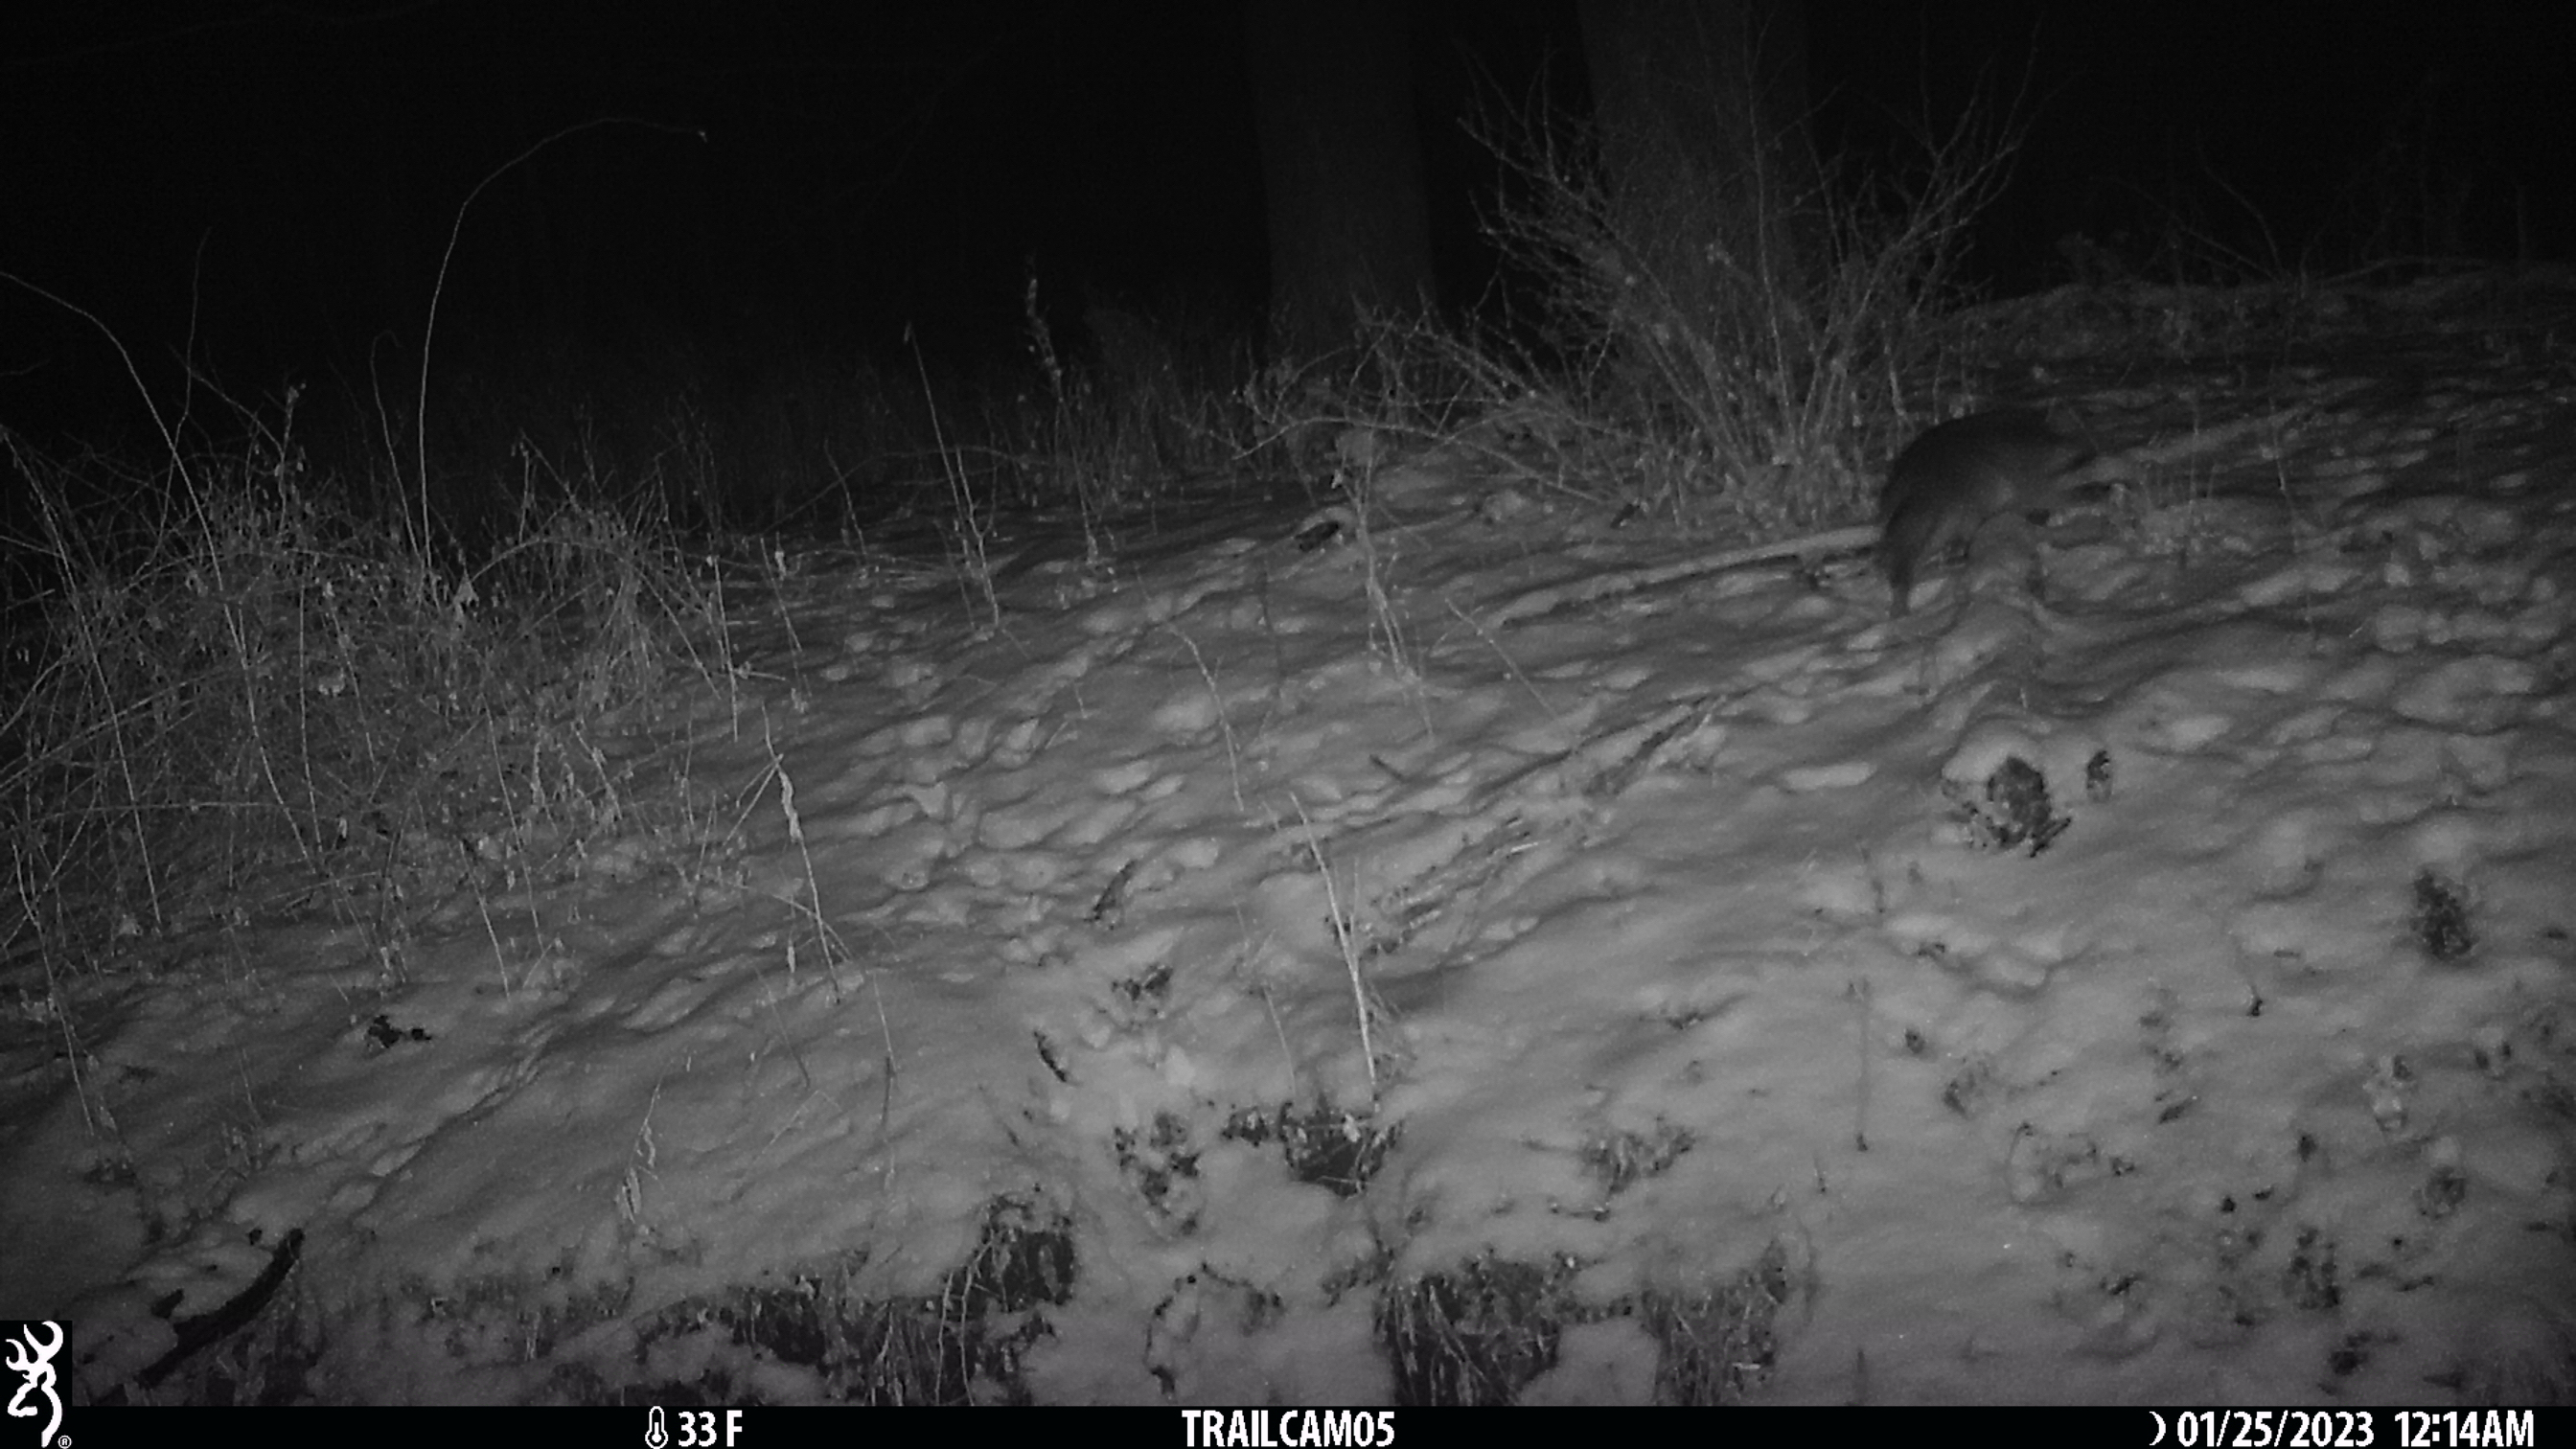Raccoon: (1874, 402, 2127, 614)
